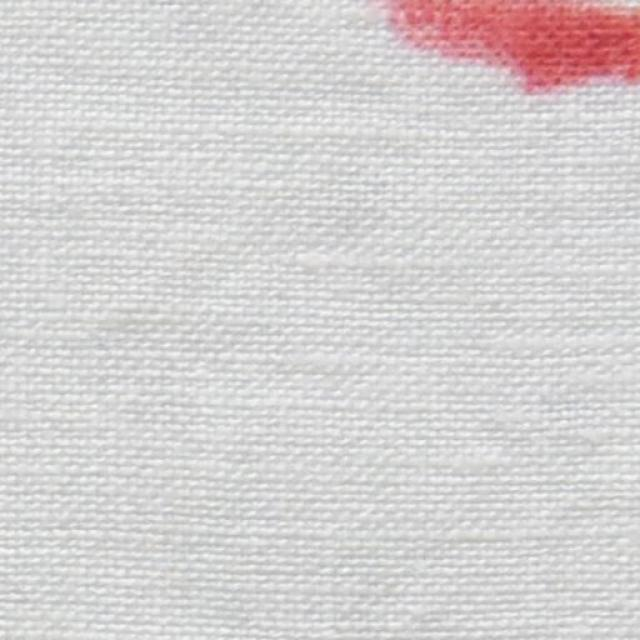Stain: (381, 0, 639, 88)
